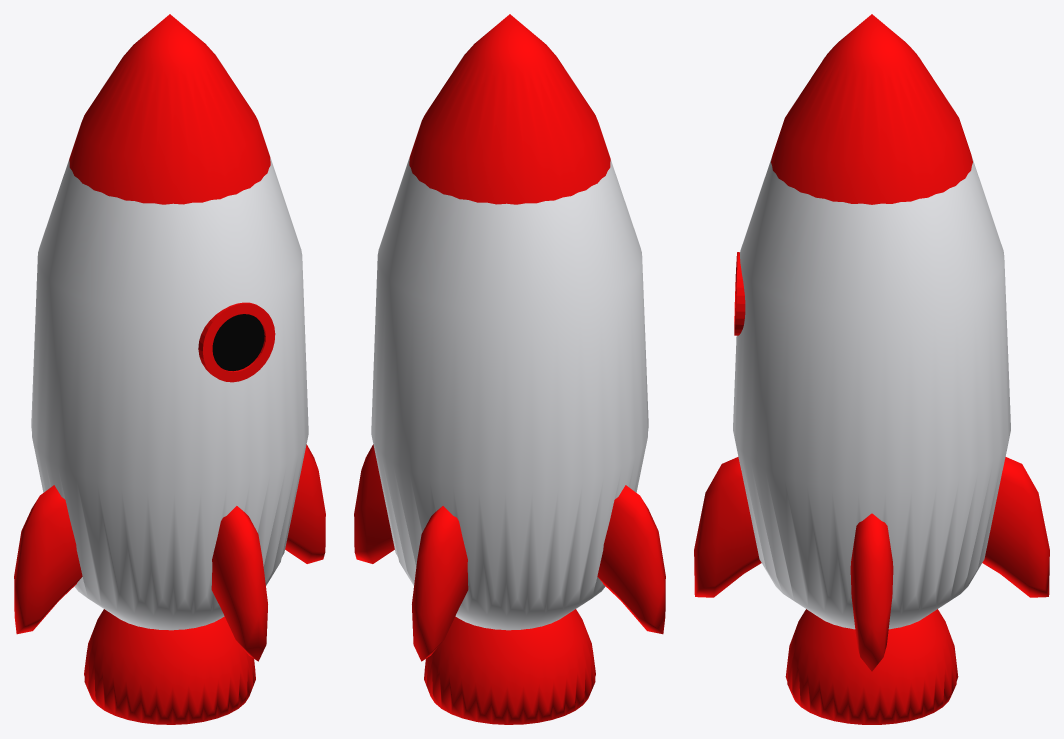
Rendered from rocket.obj.
3 renders of one model, left to right at view 1: azimuth 30°, elevation 25°; view 2: azimuth 150°, elevation 25°; view 3: azimuth 270°, elevation 25°, orthographic.
Parts seen in each view (by area): view 1: Cylinder, Cube.001_Cube.005, Cube.002_Cube.006, Cylinder.001, Cube_Cube.002; view 2: Cylinder, Cube.001_Cube.005, Cube.003_Cube.007, Cube_Cube.002; view 3: Cylinder, Cube.002_Cube.006, Cube.003_Cube.007, Cube_Cube.002, Cylinder.001.
Boxes of the visible parts, x1,y1,x2,y2 form: Cylinder: (31,14,308,724); Cube.001_Cube.005: (14,485,82,634); Cube.002_Cube.006: (211,506,267,661); Cylinder.001: (198,302,275,382); Cube_Cube.002: (285,444,325,563); Cylinder: (371,14,648,724); Cube.001_Cube.005: (597,485,665,634); Cube.003_Cube.007: (412,506,468,661); Cube_Cube.002: (354,444,394,563); Cylinder: (733,14,1010,724); Cube.002_Cube.006: (694,457,761,597); Cube.003_Cube.007: (982,457,1049,597); Cube_Cube.002: (850,513,893,671); Cylinder.001: (734,252,745,335).
Size of the model in its own units: 2.12 by 4.44 by 2.12.
Materials: 5 (5 with a texture image).
